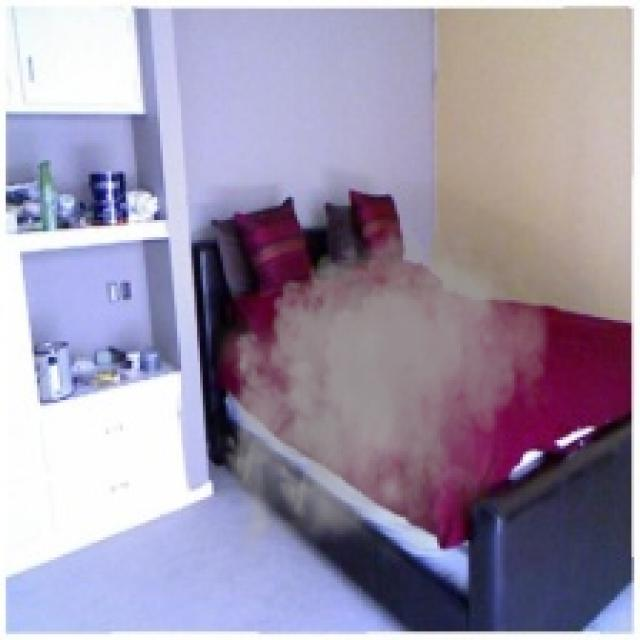smoke: (209, 212, 560, 572)
